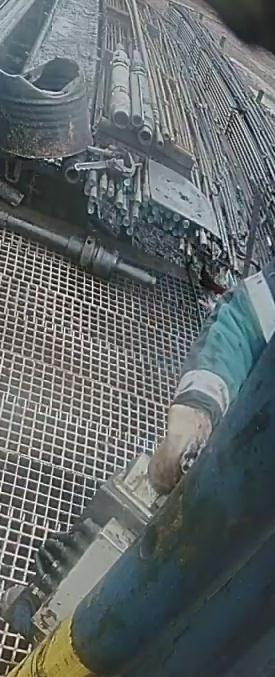gloves: (146, 402, 214, 496)
vest: (0, 0, 274, 676)
